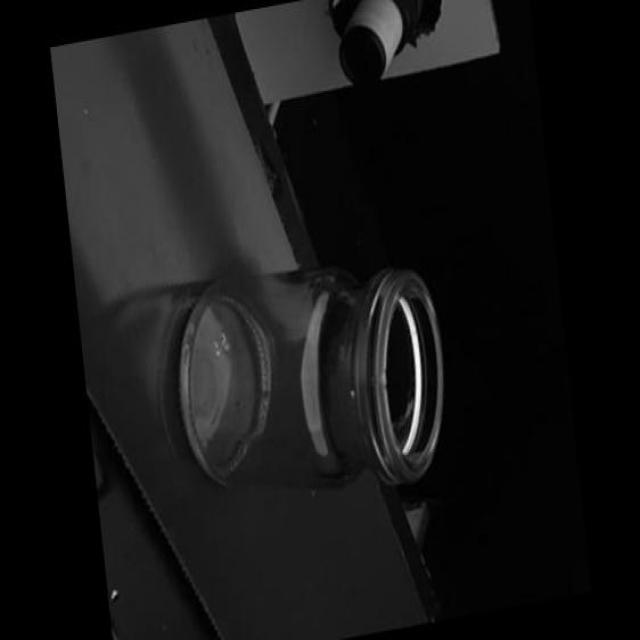defect: (366, 358, 392, 402), (342, 380, 358, 410)
glass: (162, 233, 458, 530)
